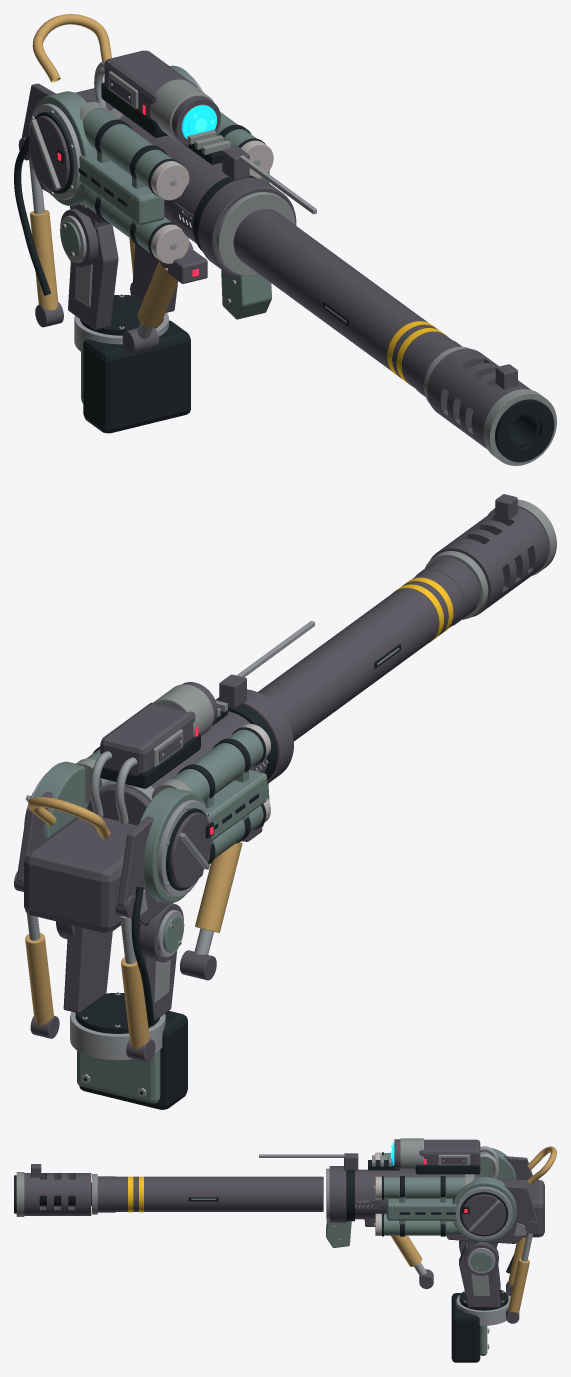
Rendered from warden-back-cannon-study-v1.glb.
3 views of the same model, one above another, from view 1: azimuth 30°, elevation 25°; view 2: azimuth 150°, elevation 25°; view 3: azimuth 270°, elevation 25° (orthographic). The views are drawn at different scales.
Visible parts, largest first — view 1: CANNON Long stepped barrel, CANNON Load spreading back adapter, CANNON Vented muzzle brake, CANNON Side recoil block, CANNON Lower articulated arm, CANNON Chamber jacket, CANNON Recoil accumulator.001, CANNON Recoil collar, CANNON Optic electronics case, CANNON Collar front edge, CANNON Black bore crown, CANNON Underslung collar armor (+29 smaller); view 2: CANNON Long stepped barrel, CANNON Rear breech armored spine, CANNON Vented muzzle brake, CANNON Optic electronics case, CANNON Lower articulated arm.001, CANNON Beveled adapter armor, CANNON Load spreading back adapter, CANNON Recoil accumulator.001, CANNON Chamber jacket, CANNON Trunnion main drum, CANNON Forward recoil damper, CANNON Breech geometric cheek (+23 smaller); view 3: CANNON Long stepped barrel, CANNON Vented muzzle brake, CANNON Load spreading back adapter, CANNON Recoil accumulator.003, CANNON Chamber jacket, CANNON Side recoil block.001, CANNON Trunnion armor cap.001, CANNON Breech geometric cheek.001, CANNON Optic electronics case, CANNON Recoil accumulator.002, CANNON Lower articulated arm.001, CANNON Recoil collar (+22 smaller).
Part boxes in pixels (<box>): CANNON Long stepped barrel: <box>233,209,451,388</box>; CANNON Load spreading back adapter: <box>83,320,190,433</box>; CANNON Vented muzzle brake: <box>427,348,530,449</box>; CANNON Side recoil block: <box>79,154,164,224</box>; CANNON Lower articulated arm: <box>68,224,118,329</box>; CANNON Chamber jacket: <box>108,106,228,243</box>; CANNON Recoil accumulator.001: <box>82,108,171,188</box>; CANNON Recoil collar: <box>198,177,296,277</box>; CANNON Optic electronics case: <box>104,50,197,117</box>; CANNON Collar front edge: <box>216,192,295,276</box>; CANNON Black bore crown: <box>495,399,554,462</box>; CANNON Underslung collar armor: <box>221,270,271,319</box>; CANNON Long stepped barrel: <box>258,570,463,741</box>; CANNON Rear breech armored spine: <box>24,817,136,932</box>; CANNON Vented muzzle brake: <box>430,507,548,617</box>; CANNON Optic electronics case: <box>100,702,195,776</box>; CANNON Lower articulated arm.001: <box>63,926,112,1013</box>; CANNON Beveled adapter armor: <box>77,1049,160,1103</box>; CANNON Load spreading back adapter: <box>79,1011,187,1109</box>; CANNON Recoil accumulator.001: <box>171,729,263,801</box>; CANNON Chamber jacket: <box>87,711,265,825</box>; CANNON Trunnion main drum: <box>139,787,207,903</box>; CANNON Forward recoil damper: <box>195,842,242,932</box>; CANNON Breech geometric cheek: <box>117,816,203,924</box>; CANNON Long stepped barrel: <box>115,1176,323,1211</box>; CANNON Vented muzzle brake: <box>24,1173,91,1215</box>; CANNON Load spreading back adapter: <box>451,1293,480,1362</box>; CANNON Recoil accumulator.003: <box>381,1177,464,1198</box>; CANNON Chamber jacket: <box>355,1169,479,1219</box>; CANNON Side recoil block.001: <box>387,1199,456,1220</box>; CANNON Trunnion armor cap.001: <box>461,1194,506,1235</box>; CANNON Breech geometric cheek.001: <box>446,1184,538,1243</box>; CANNON Optic electronics case: <box>419,1139,480,1164</box>; CANNON Recoil accumulator.002: <box>381,1213,461,1235</box>; CANNON Lower articulated arm.001: <box>459,1243,500,1307</box>; CANNON Recoil collar: <box>329,1166,346,1222</box>.
Size of the model in its own units: 0.44 by 0.977 by 2.27.
